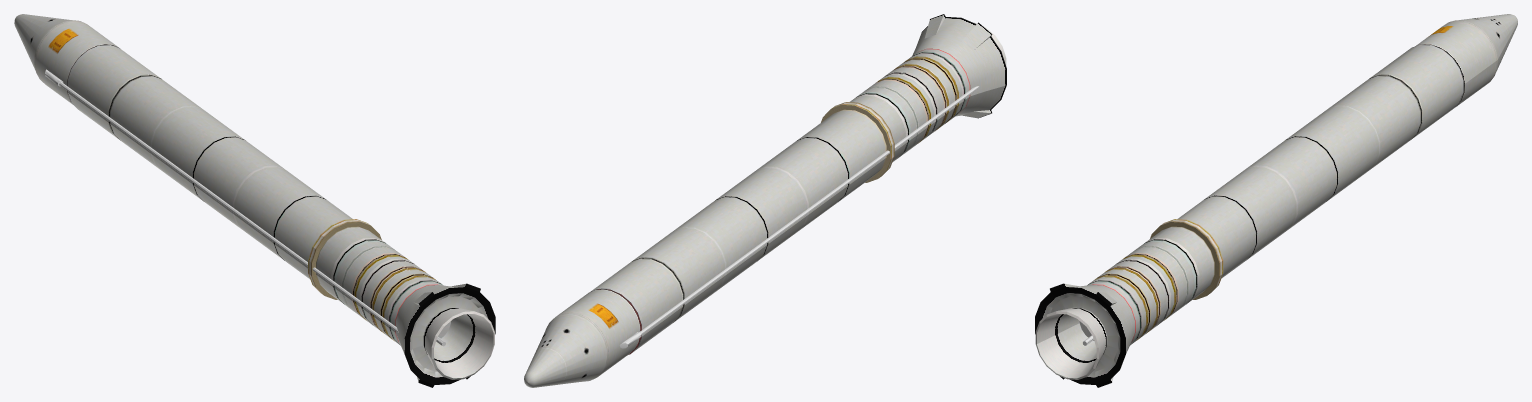
Rendered from atlantis_srb.obj.
The picture shows the model from 3 angles, left to right: view 1: azimuth 30°, elevation 25°; view 2: azimuth 150°, elevation 25°; view 3: azimuth 330°, elevation 25°; orthographic projection.
Parts seen in each view (by area): view 1: group0, group7, group6, group1; view 2: group0, group6, group7, group1; view 3: group0, group7, group6.
Part boxes in pixels (x1,y1,x2,y2): group0: (67, 44, 443, 345); group7: (395, 283, 495, 387); group6: (14, 14, 118, 104); group1: (45, 69, 398, 332); group0: (589, 48, 970, 354); group6: (524, 289, 640, 387); group7: (912, 14, 1006, 118); group1: (619, 86, 979, 348); group0: (1087, 44, 1463, 345); group7: (1035, 283, 1134, 387); group6: (1416, 14, 1517, 107).
Size of the model in its own units: 5.26 by 5.34 by 44.95.
Materials: 4 (3 with a texture image).
